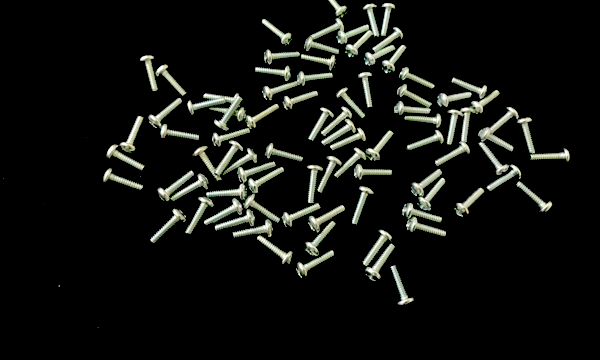shortscrew: (150, 209, 188, 244), (516, 182, 554, 216), (295, 249, 336, 280), (148, 97, 184, 132), (157, 170, 195, 203), (256, 235, 295, 267), (243, 195, 283, 226), (303, 221, 336, 258), (104, 143, 146, 172), (362, 229, 394, 267), (365, 244, 396, 283), (185, 195, 215, 235), (170, 173, 211, 202), (213, 140, 244, 177), (389, 265, 415, 309), (204, 199, 244, 227), (416, 177, 447, 213), (155, 64, 187, 98), (193, 147, 223, 183), (282, 203, 322, 230), (216, 209, 256, 236), (408, 168, 444, 198), (479, 141, 509, 177), (309, 205, 346, 234), (245, 103, 281, 132), (487, 164, 524, 192), (335, 87, 367, 119), (214, 98, 242, 134), (321, 119, 357, 147), (406, 216, 448, 240), (248, 167, 285, 194), (454, 188, 485, 220), (335, 149, 368, 179), (351, 186, 375, 227), (318, 155, 343, 194), (434, 142, 471, 168), (395, 84, 432, 110), (321, 106, 353, 136), (237, 161, 277, 185), (261, 18, 294, 47), (308, 108, 335, 143), (402, 202, 443, 225), (477, 127, 514, 152), (372, 26, 405, 54), (121, 115, 144, 155), (232, 220, 275, 241), (103, 169, 144, 191), (366, 130, 394, 162), (330, 127, 367, 151), (451, 77, 488, 101), (406, 130, 444, 153), (264, 143, 304, 164), (398, 67, 436, 89), (212, 127, 251, 148), (261, 80, 298, 102), (470, 91, 501, 117), (363, 44, 396, 68), (159, 125, 202, 143), (516, 118, 537, 154), (381, 45, 407, 74), (312, 19, 347, 40), (140, 55, 159, 93), (302, 53, 338, 73), (336, 24, 370, 45), (207, 184, 249, 201), (529, 148, 571, 165), (306, 165, 324, 204), (492, 107, 519, 133), (362, 3, 381, 39), (394, 101, 432, 119), (437, 91, 473, 110), (187, 99, 227, 116), (357, 72, 375, 109), (263, 49, 302, 66), (354, 165, 393, 182), (209, 106, 247, 123), (304, 38, 339, 56), (256, 65, 292, 82), (378, 3, 396, 36), (319, 0, 349, 19), (203, 94, 242, 108), (404, 113, 442, 127)
